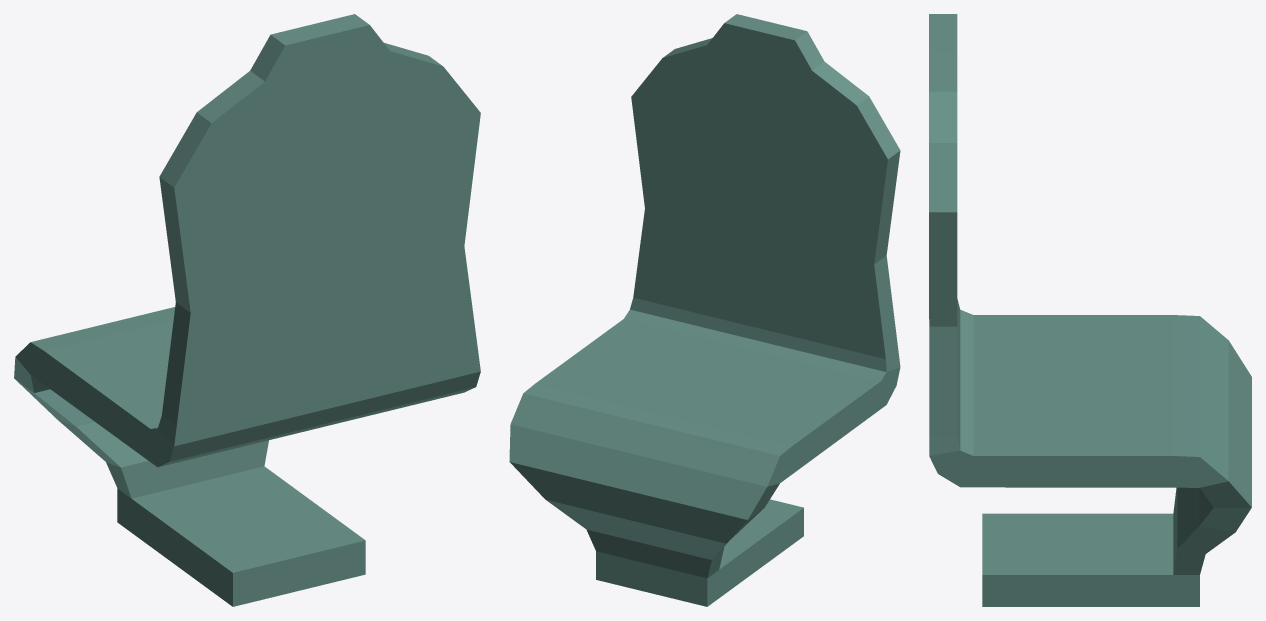
The model's file is Chair.fbx.
The picture shows the model from 3 angles, left to right: view 1: azimuth 30°, elevation 25°; view 2: azimuth 150°, elevation 25°; view 3: azimuth 270°, elevation 25°; orthographic projection. The views are drawn at different scales.
Parts seen in each view (by area): view 1: Chair; view 2: Chair; view 3: Chair.
Part boxes in pixels (x1,y1,x2,y2): Chair: (14,14,480,606); Chair: (509,14,900,606); Chair: (929,14,1251,606).
Size of the model in its own units: 183 by 329 by 177.
